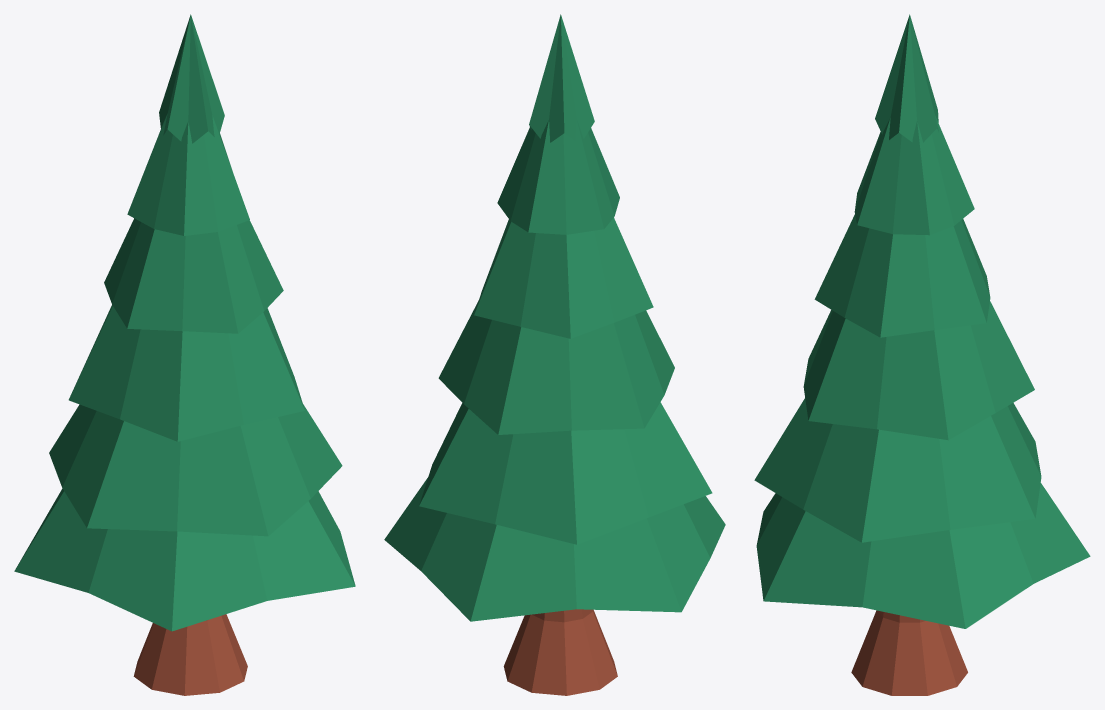
The model's file is pinetree2.fbx.
3 views of the same model, side by side, from view 1: azimuth 30°, elevation 25°; view 2: azimuth 150°, elevation 25°; view 3: azimuth 270°, elevation 25° (orthographic).
Parts seen in each view (by area): view 1: Cylinder.001; view 2: Cylinder.001; view 3: Cylinder.001.
Part boxes in pixels (x1,y1,x2,y2): Cylinder.001: [14, 14, 355, 695]; Cylinder.001: [384, 14, 725, 695]; Cylinder.001: [754, 14, 1090, 695].
Size of the model in its own units: 421 by 890 by 412.
